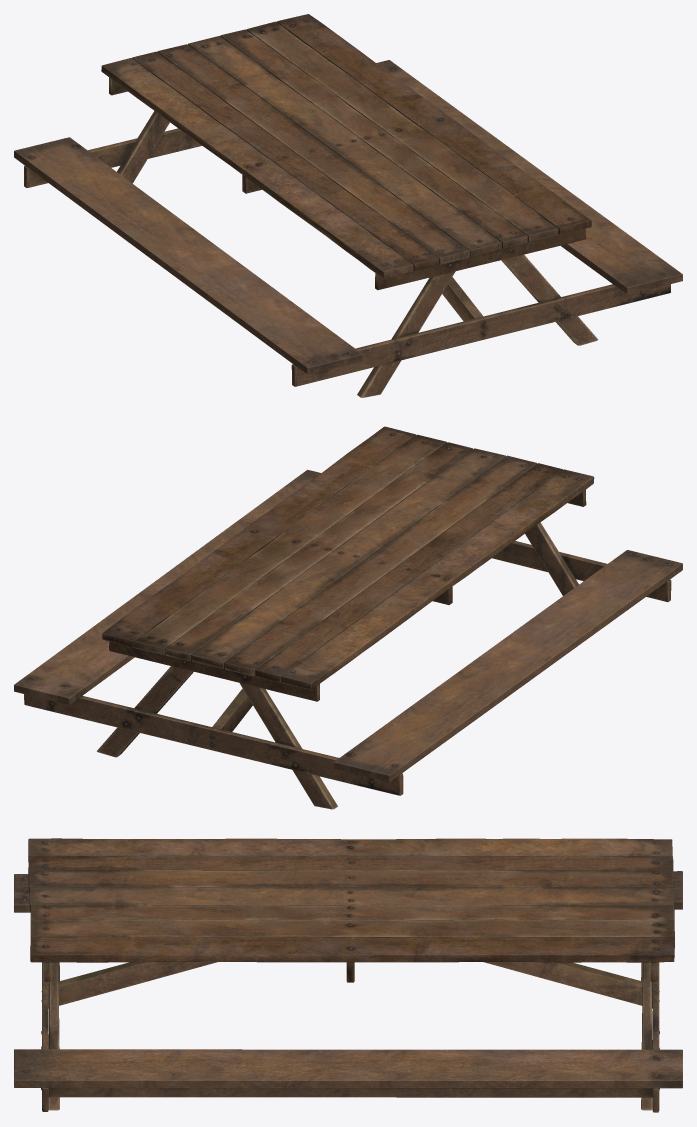
The model's file is wooden_picnic_table_1k.gltf.
The picture shows the model from 3 angles, top to bottom: view 1: azimuth 30°, elevation 25°; view 2: azimuth 150°, elevation 25°; view 3: azimuth 270°, elevation 25°; orthographic projection. The views are drawn at different scales.
Visible parts, largest first — view 1: wooden_picnic_table; view 2: wooden_picnic_table; view 3: wooden_picnic_table.
Boxes of the visible parts, left/top/right/bottom form: wooden_picnic_table: left=14, top=14, right=682, bottom=397; wooden_picnic_table: left=14, top=426, right=682, bottom=809; wooden_picnic_table: left=14, top=838, right=682, bottom=1112.
Size of the model in its own units: 2.24 by 0.746 by 3.02.
2 materials, 2 textured.
